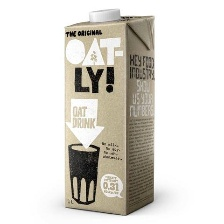carton: (61, 6, 160, 216)
